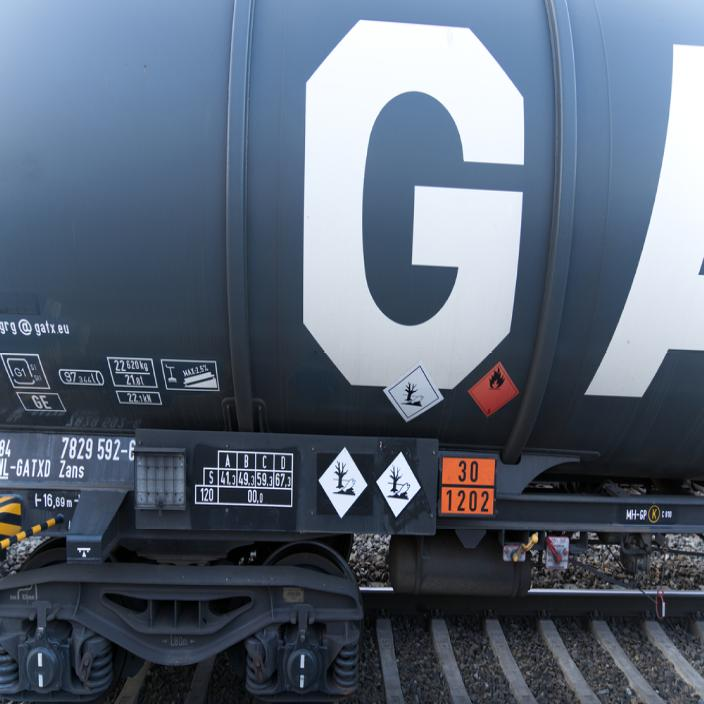can and bottle trash cans: (468, 363, 518, 415)
